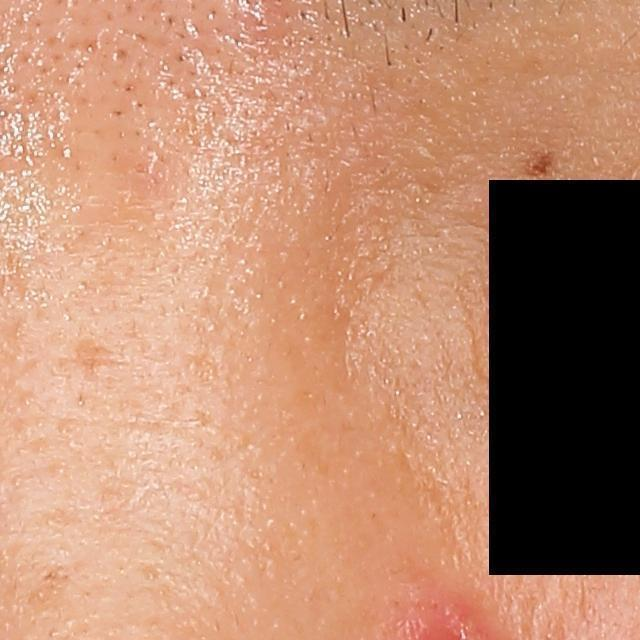nevus: (520, 145, 565, 181)
